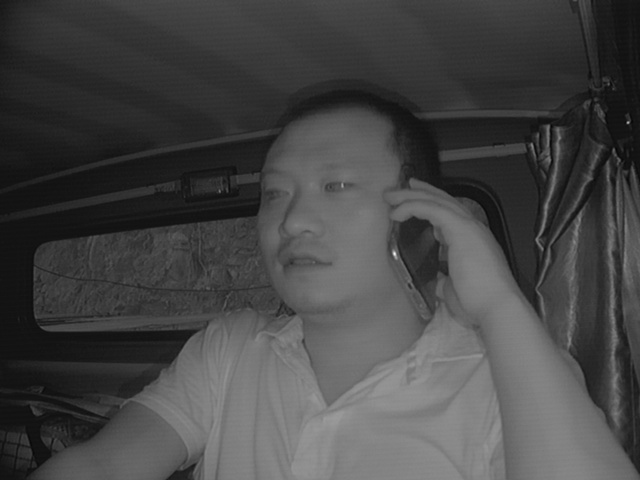hand: (384, 177, 501, 325)
